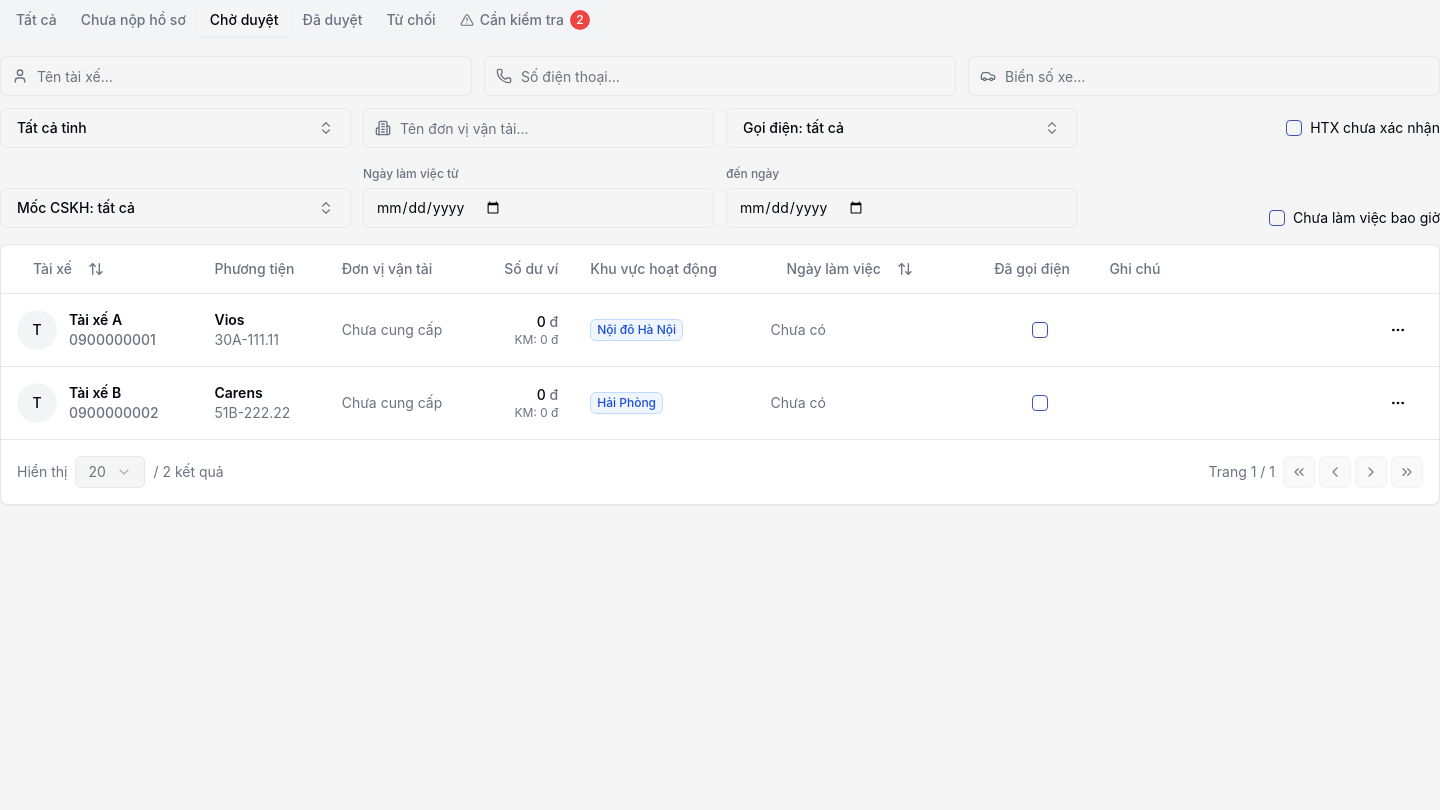
DriversTable — sửa tỉnh không rò trạng thái sang tài khác › bấm Sửa (đang nạp danh mục) rồi đóng và mở tài khác → kết quả nạp về muộn bị bỏ
Step 1. Click the text "Tài xế A" → (96, 319), box left=69, top=310, right=122, bottom=328
(page scrolled)
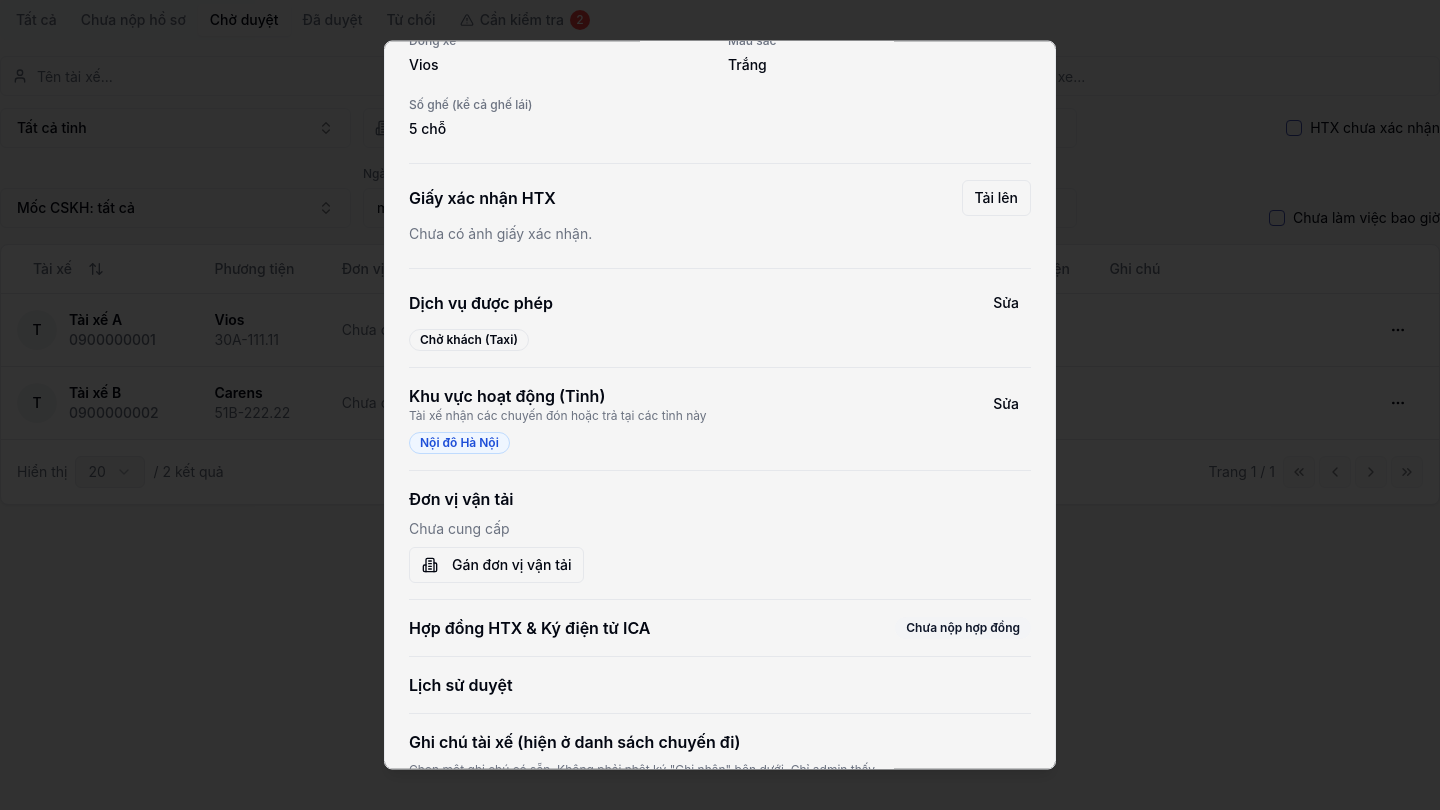
Expected: the dialog is shown, left=384, top=40, right=1056, bottom=770
Step 2. Click the button "Sửa" in the row of "Khu vực hoạt động (Tỉnh)" → (1006, 404), box left=981, top=386, right=1031, bottom=422
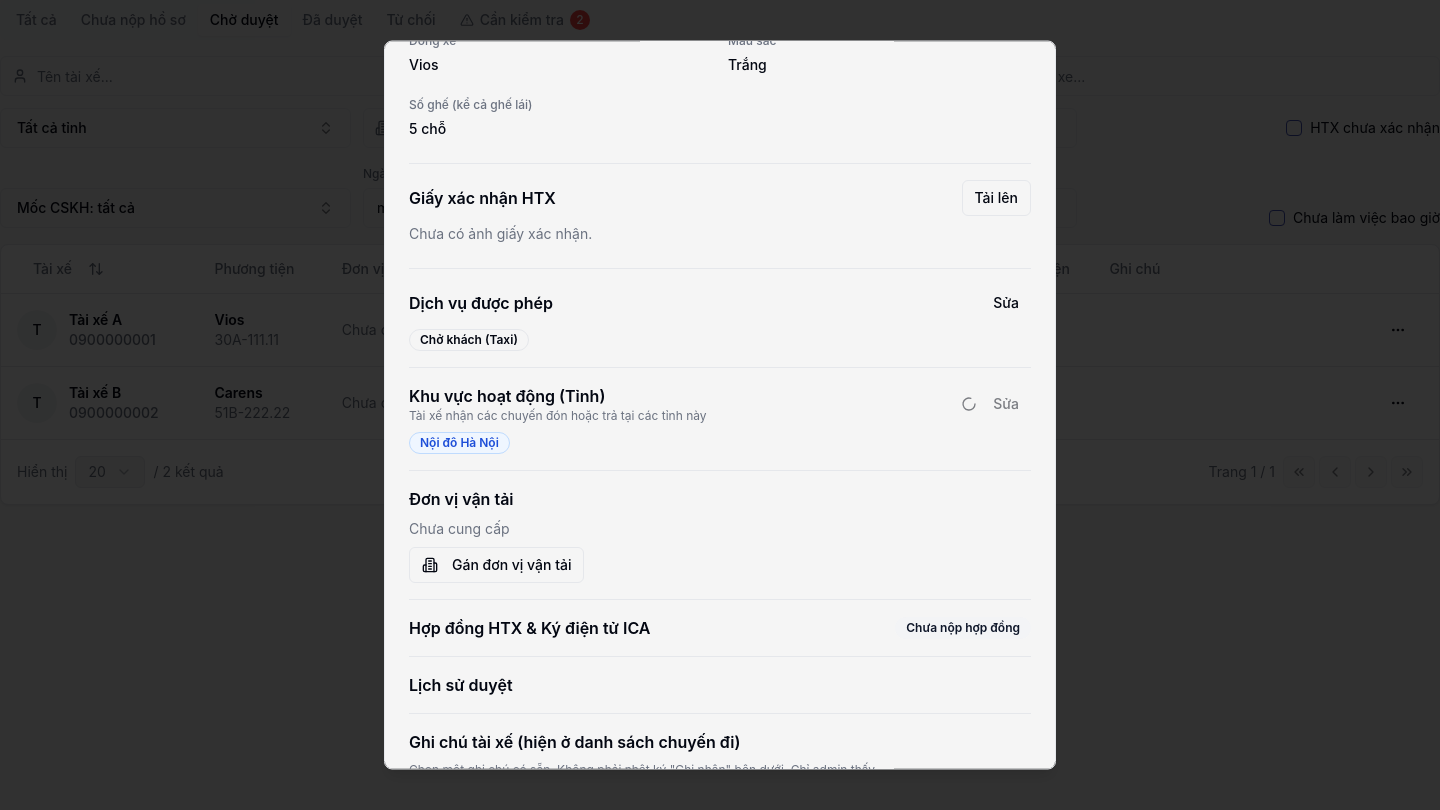
Step 3. Press Escape
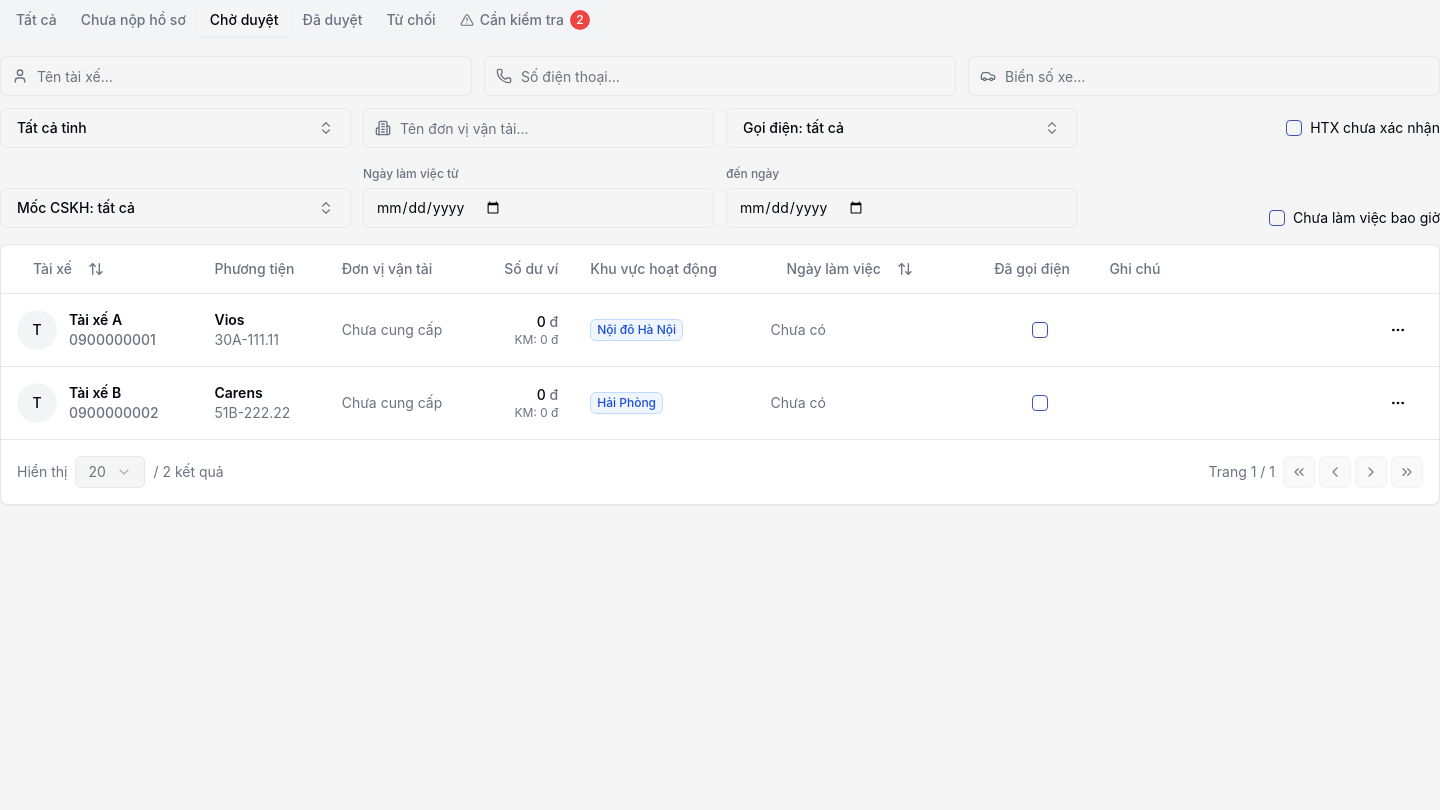
Expected: the dialog is gone
Step 4. Click the text "Tài xế B" → (95, 392), box left=69, top=384, right=121, bottom=400
(page scrolled)
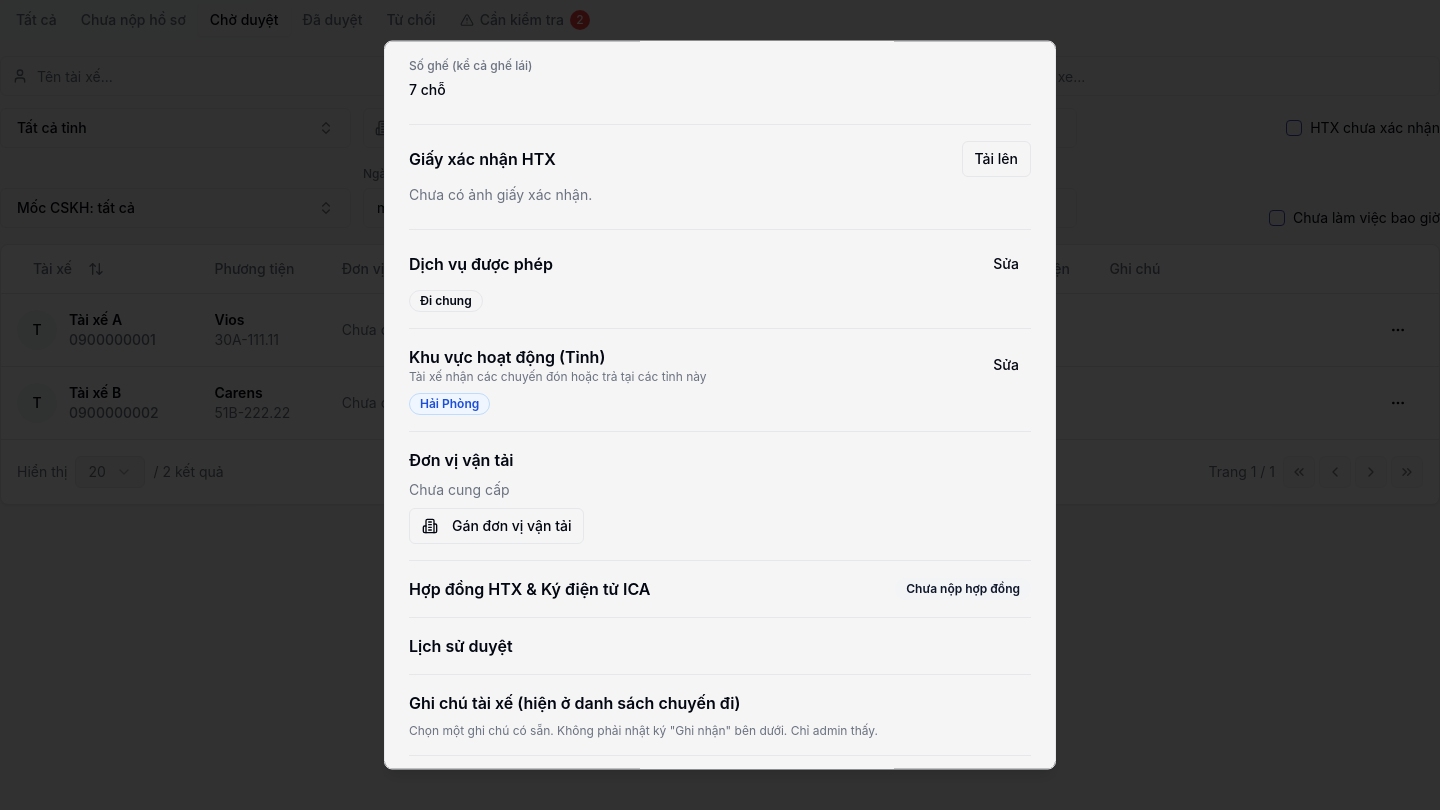
Expected: the dialog is shown, left=384, top=40, right=1056, bottom=770
Expected: the button "Sửa" in the row of "Khu vực hoạt động (Tỉnh)" is enabled, left=981, top=348, right=1031, bottom=384
Expected: the text "Hải Phòng" is shown, left=409, top=394, right=490, bottom=416
